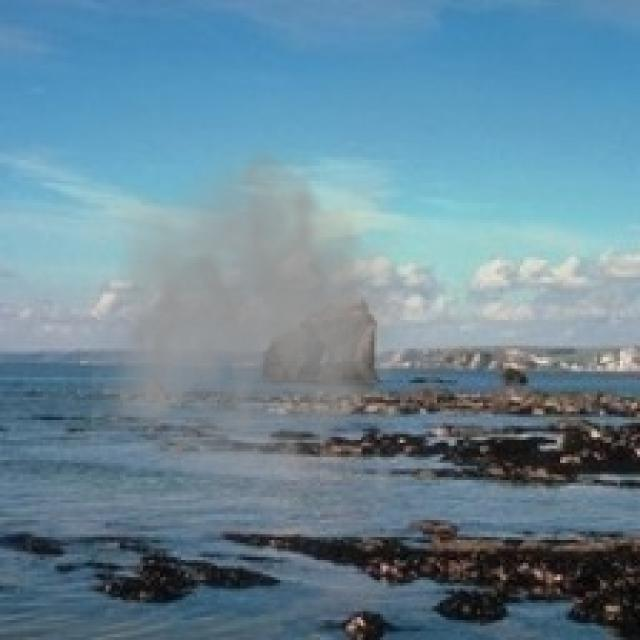smoke: (91, 132, 443, 517)
